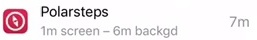name: (36, 3, 113, 21)
time: (39, 24, 60, 40), (111, 25, 133, 39)
